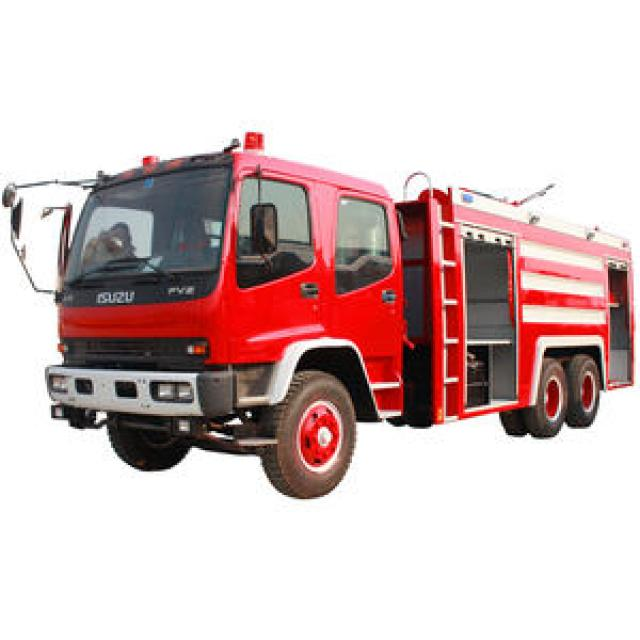emergency: (1, 131, 634, 497)
